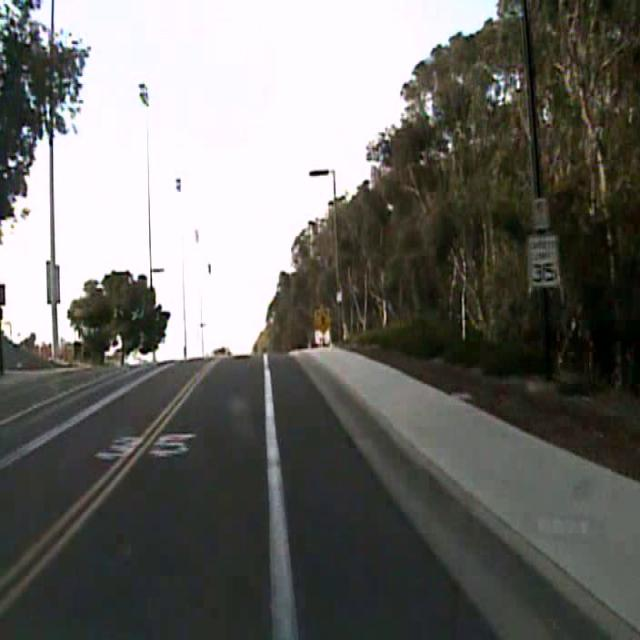speedLimit35: (526, 232, 560, 288)
